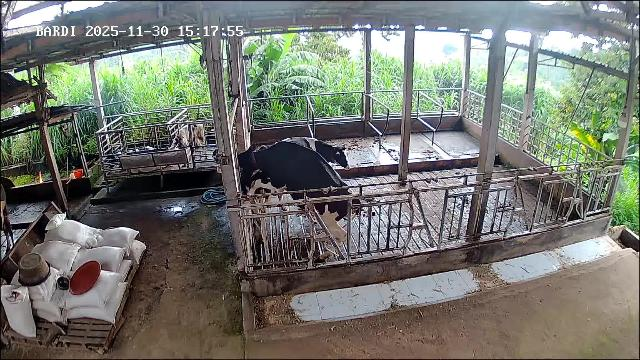mounting: (237, 145, 363, 259)
